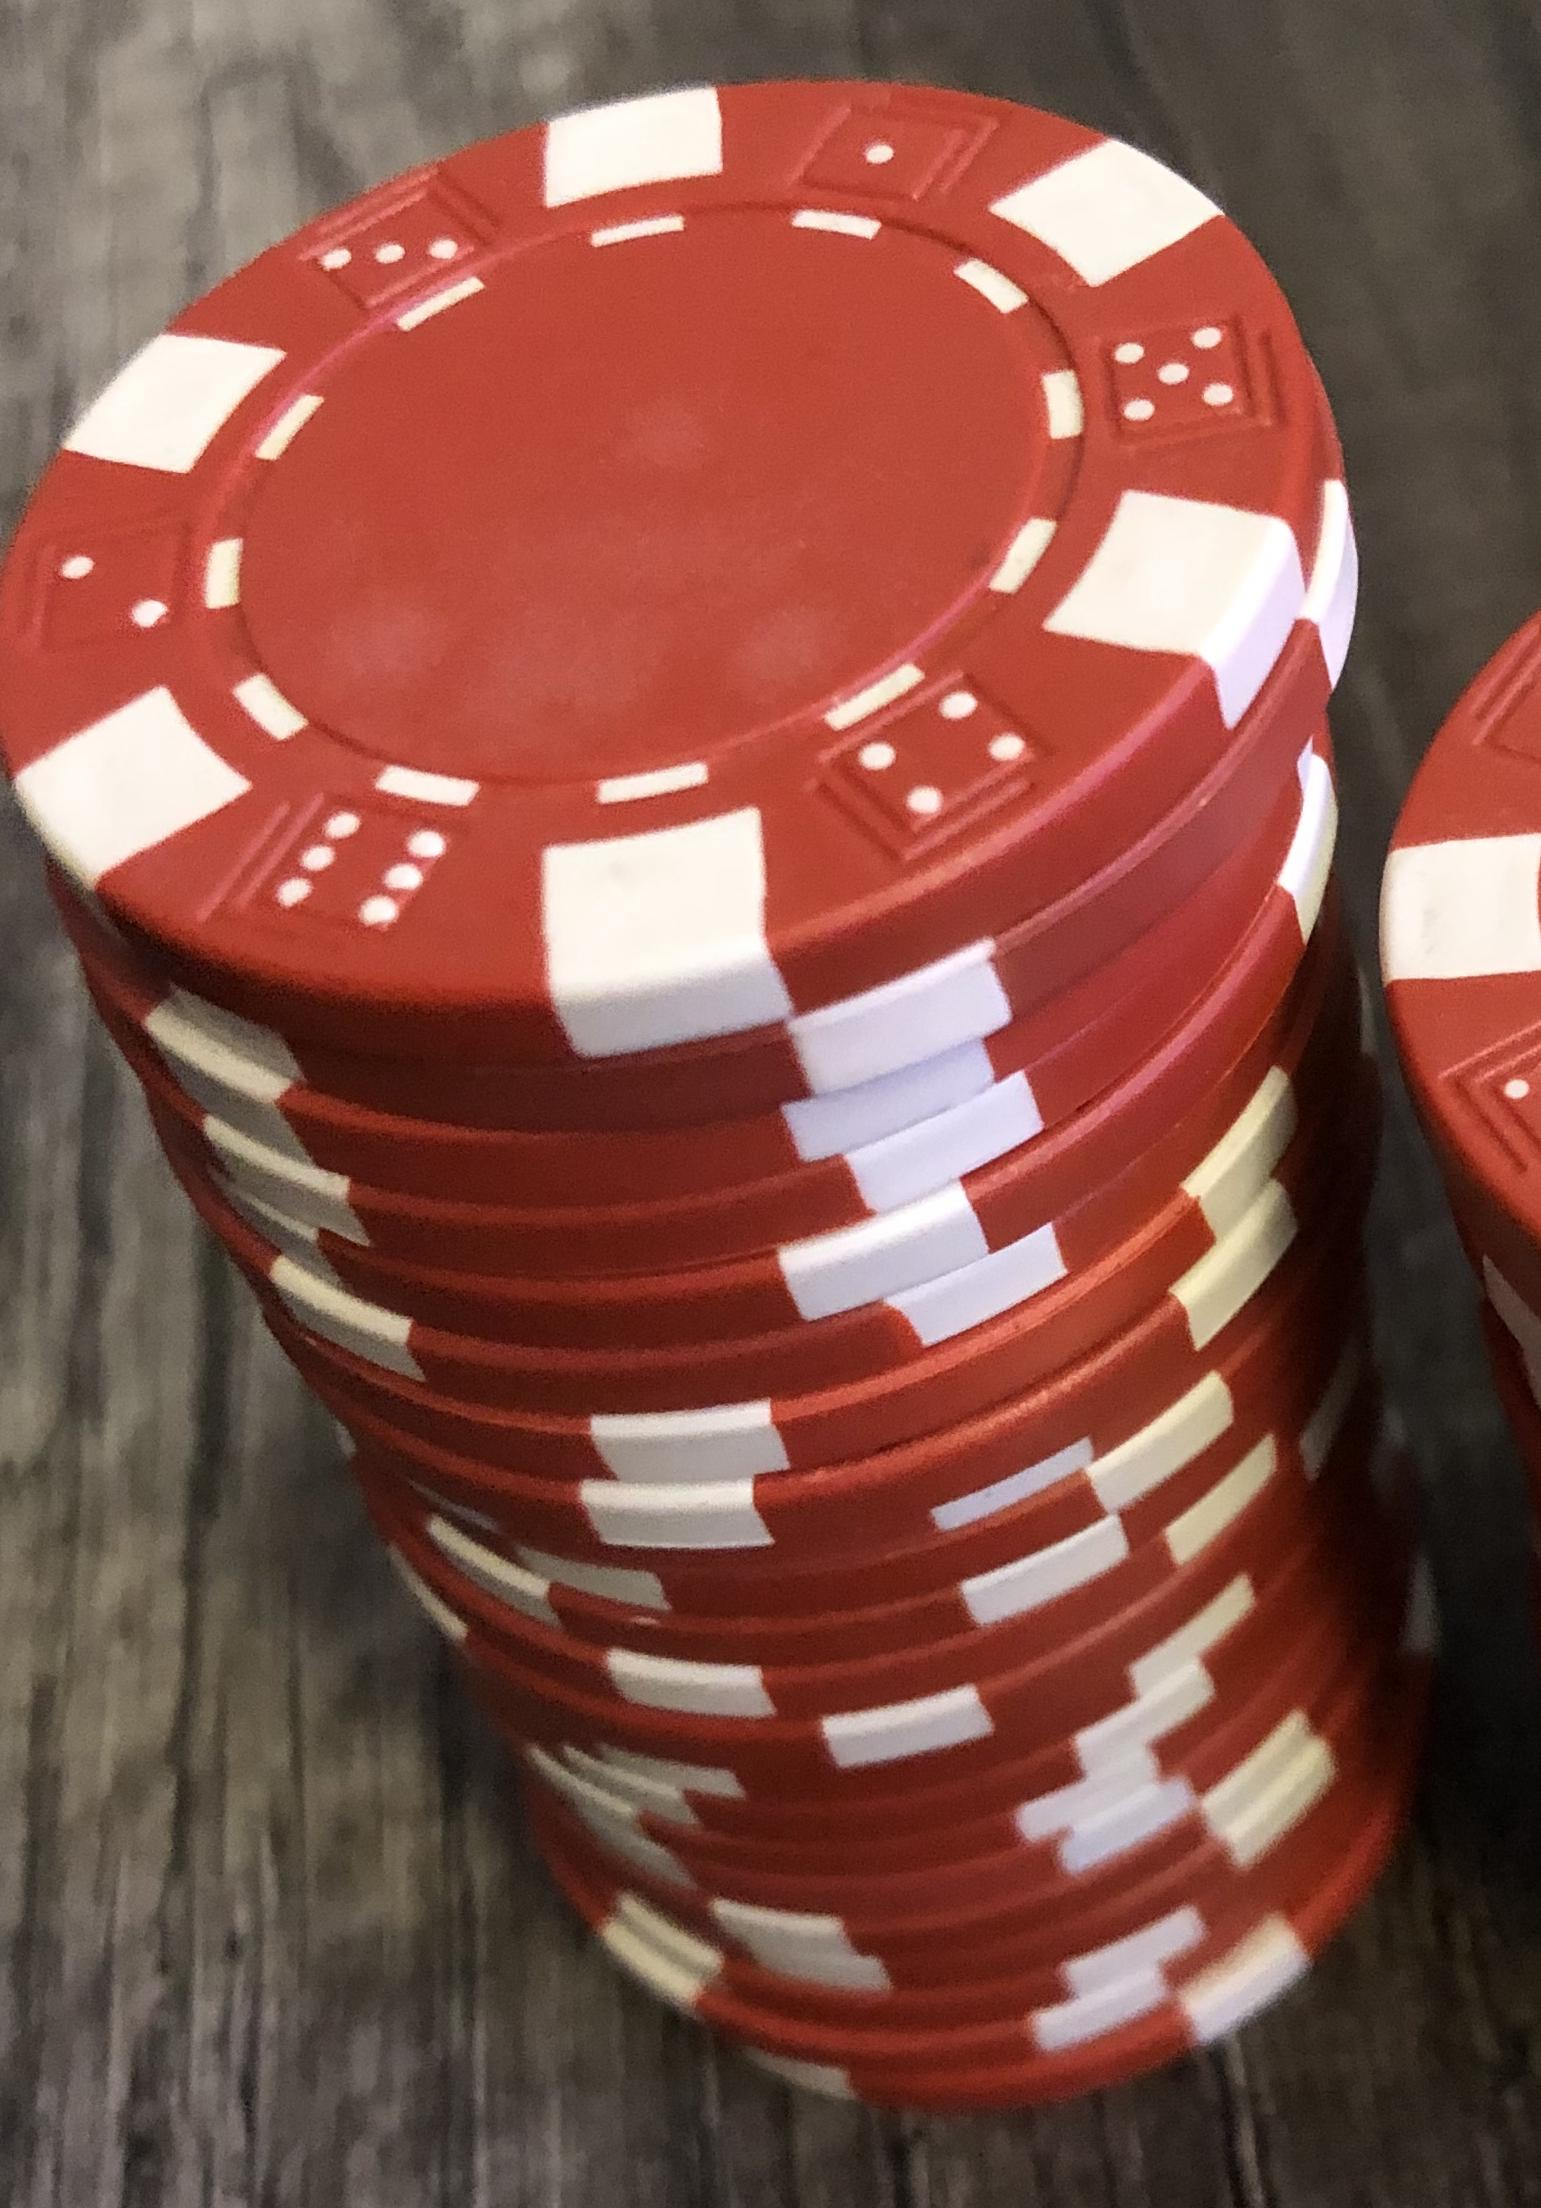Chip: (2, 2, 1541, 2208)
